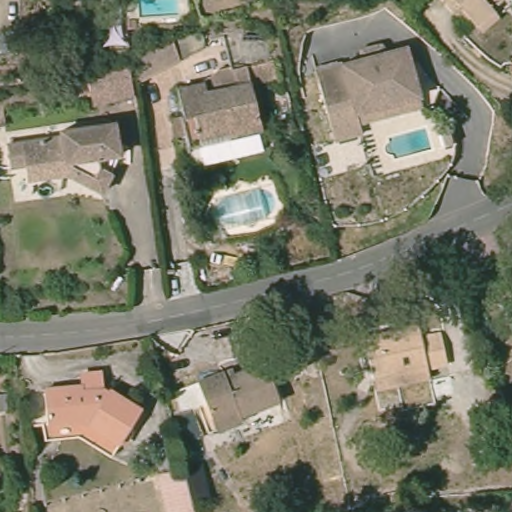pool: (206, 189, 279, 228), (380, 125, 436, 161), (133, 1, 189, 22)
